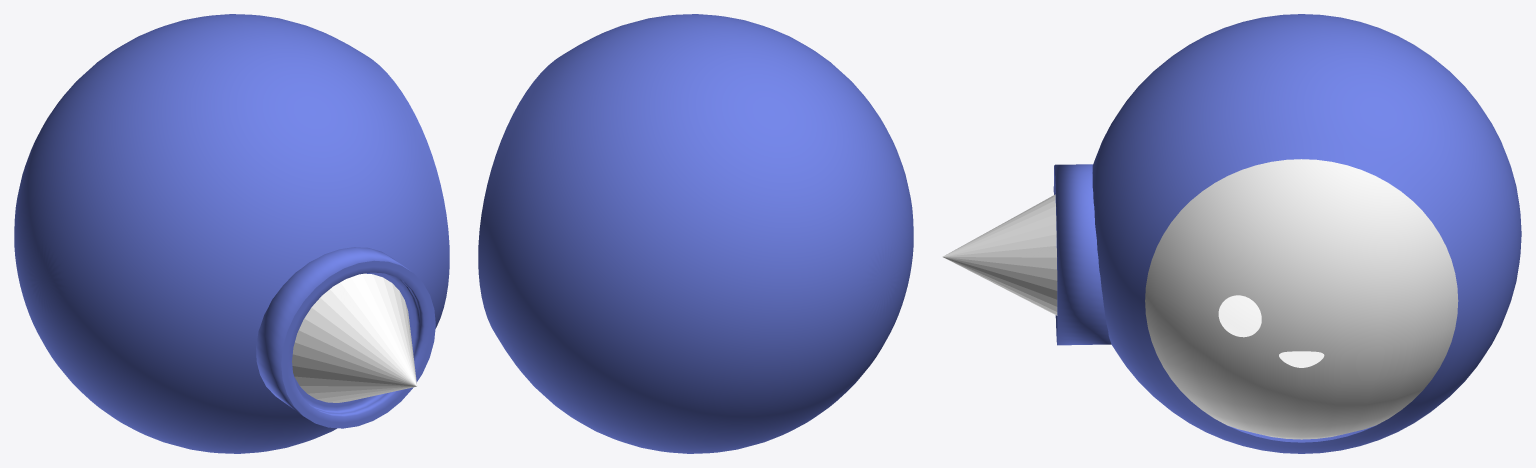
File: ROBO_BABY.glb
3 renders of one model, left to right at view 1: azimuth 30°, elevation 25°; view 2: azimuth 150°, elevation 25°; view 3: azimuth 270°, elevation 25°, orthographic.
Parts seen in each view (by area): view 1: Sphere, Cylinder.003, Cylinder; view 2: Sphere; view 3: Sphere, Sphere.001, Cylinder, Cylinder.003, Cylinder.001, Circle.
Part boxes in pixels (x1=…): Sphere: x1=14, y1=14, x2=449, y2=453; Cylinder.003: x1=292, y1=273, x2=417, y2=402; Cylinder: x1=256, y1=247, x2=435, y2=428; Sphere: x1=478, y1=14, x2=913, y2=453; Sphere: x1=1092, y1=14, x2=1521, y2=453; Sphere.001: x1=1145, y1=159, x2=1458, y2=439; Cylinder: x1=1053, y1=164, x2=1111, y2=345; Cylinder.003: x1=942, y1=194, x2=1057, y2=315; Cylinder.001: x1=1218, y1=295, x2=1261, y2=337; Circle: x1=1279, y1=351, x2=1324, y2=367.
Bounding box in the file's own units: 1.92 × 1.97 × 2.6.
